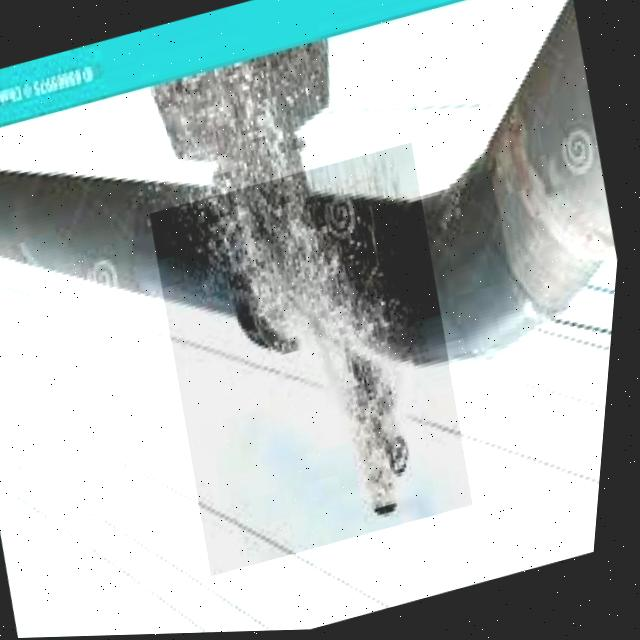corrosion: (121, 139, 501, 575)
